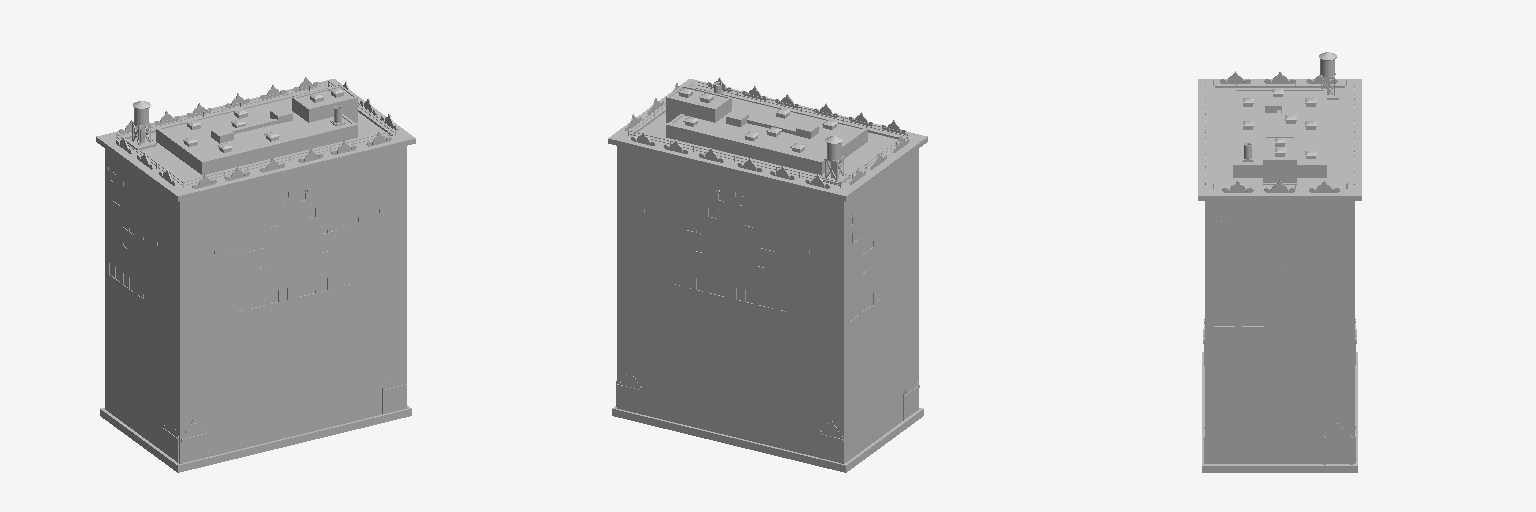
The model's file is Bayard4.obj.
3 renders of one model, left to right at view 1: azimuth 30°, elevation 25°; view 2: azimuth 150°, elevation 25°; view 3: azimuth 270°, elevation 25°, orthographic.
Parts seen in each view (by area): view 1: Bayard2, Bayard, Door; view 2: Bayard2, Bayard, Door; view 3: Bayard, Door.
Part boxes in pixels (left/top/right/bottom): Bayard2: left=180, top=146, right=406, bottom=463; Bayard: left=96, top=77, right=415, bottom=472; Door: left=162, top=371, right=406, bottom=463; Bayard2: left=617, top=146, right=843, bottom=463; Bayard: left=608, top=77, right=927, bottom=472; Door: left=616, top=371, right=919, bottom=463; Bayard: left=1198, top=52, right=1361, bottom=472; Door: left=1203, top=319, right=1356, bottom=464.
Size of the model in its own units: 33.22 by 42.64 by 19.77.